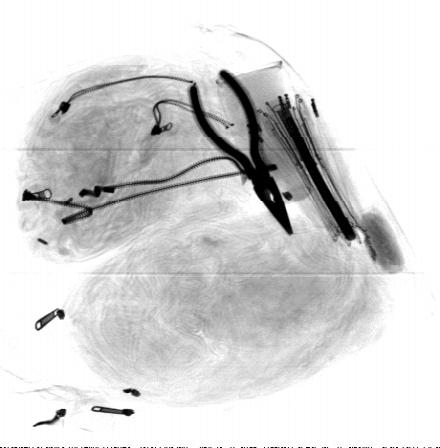Pliers: (186, 66, 295, 238)
